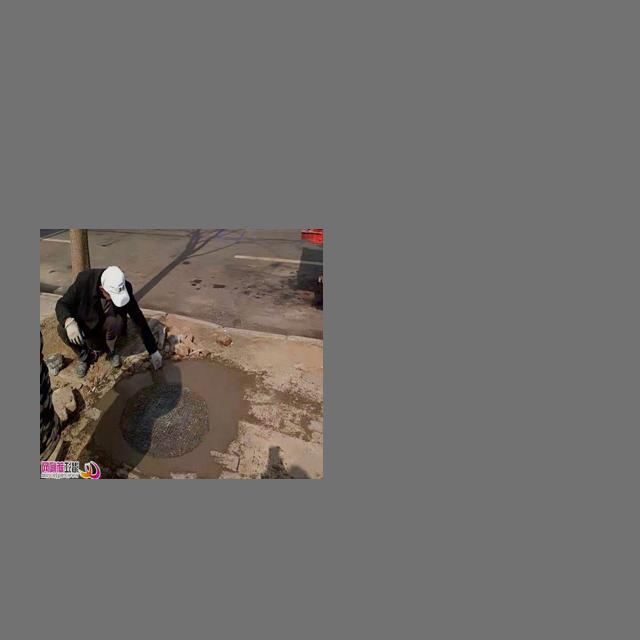good: (97, 355, 244, 473)
